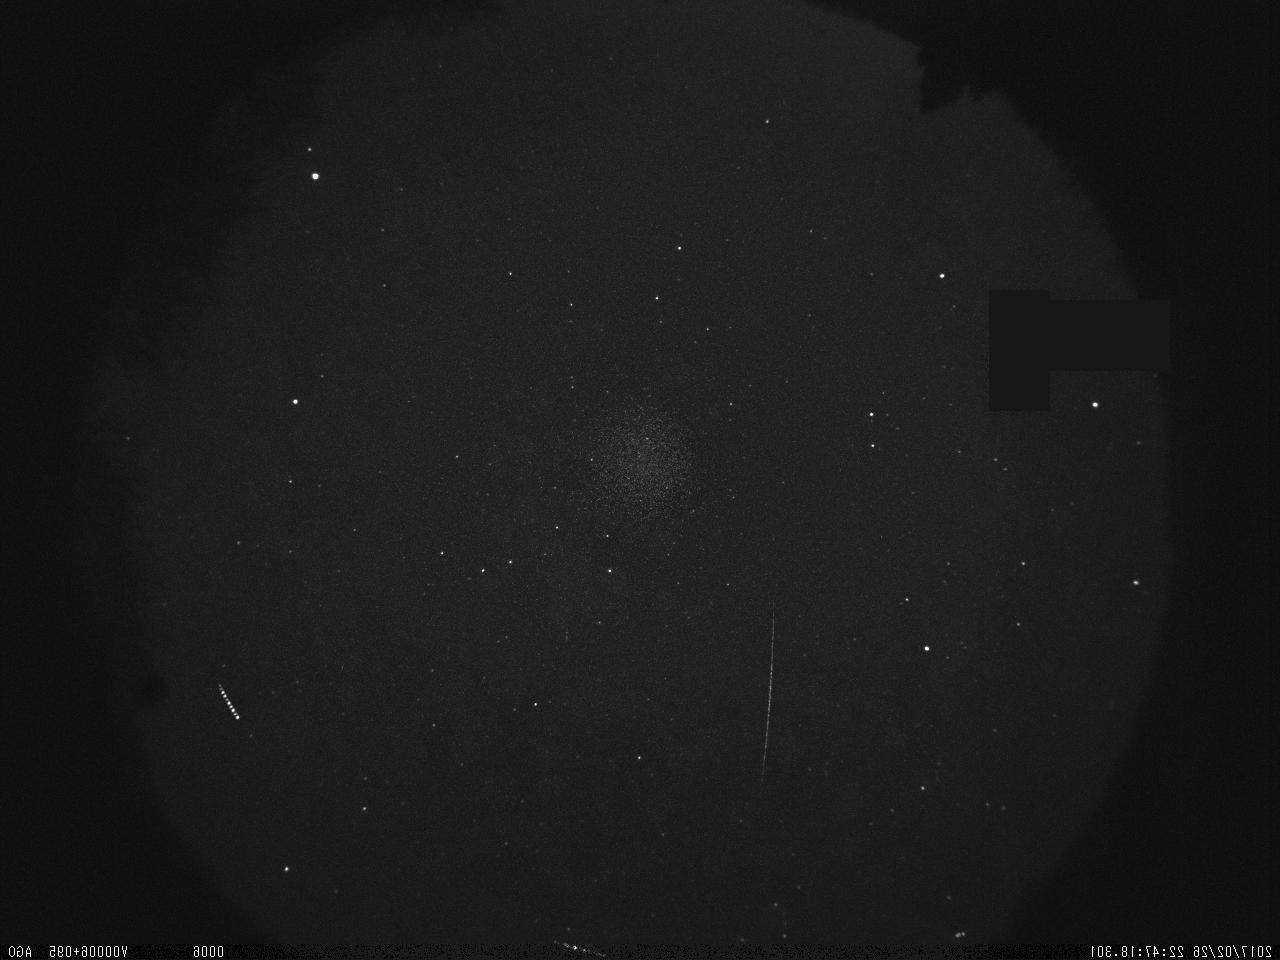meteor: (753, 582, 785, 804)
satelite: (204, 672, 247, 728)
